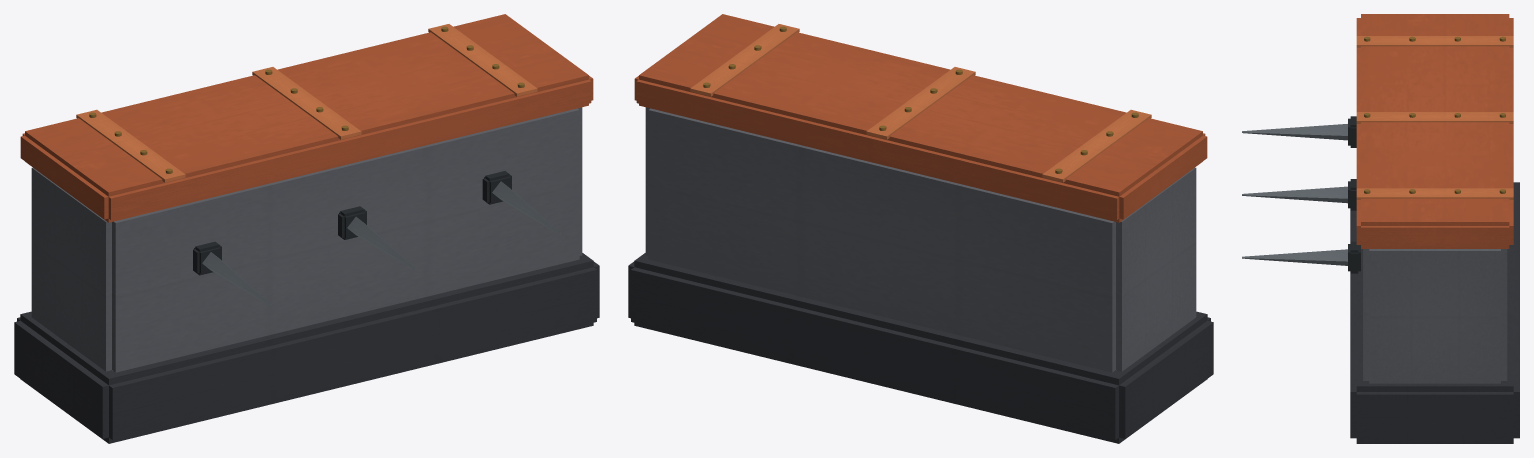
The model's file is barrier_spiked_stone.glb.
3 renders of one model, left to right at view 1: azimuth 30°, elevation 25°; view 2: azimuth 150°, elevation 25°; view 3: azimuth 270°, elevation 25°, orthographic. The views are drawn at different scales.
Parts seen in each view (by area): view 1: barrier_spiked_stone; view 2: barrier_spiked_stone; view 3: barrier_spiked_stone.
Part boxes in pixels (x1,y1,x2,y2): barrier_spiked_stone: (14, 14, 599, 443); barrier_spiked_stone: (628, 14, 1213, 443); barrier_spiked_stone: (1242, 14, 1519, 443).
Size of the model in its own units: 2.4 by 1.17 by 1.31.
Materials: 1 (1 with a texture image).
